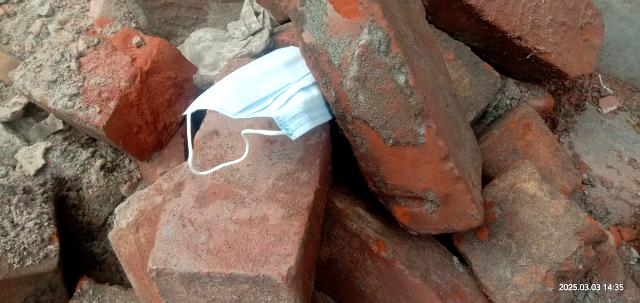mask: (176, 39, 336, 180)
